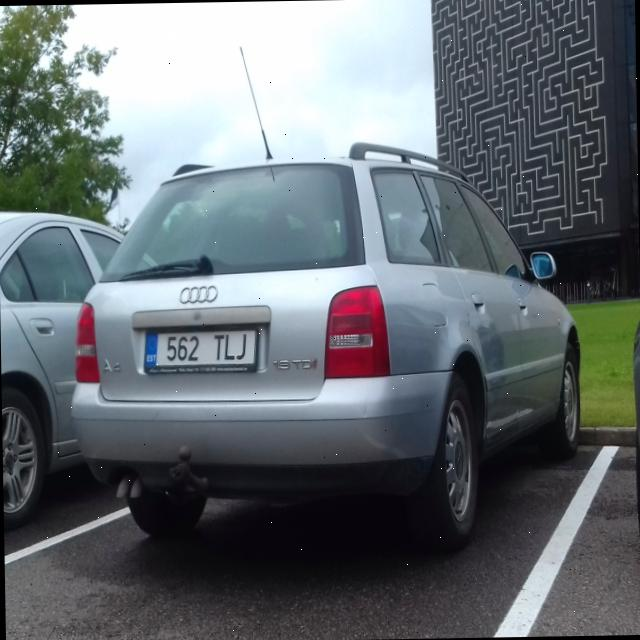License-plate: (144, 325, 258, 372)
